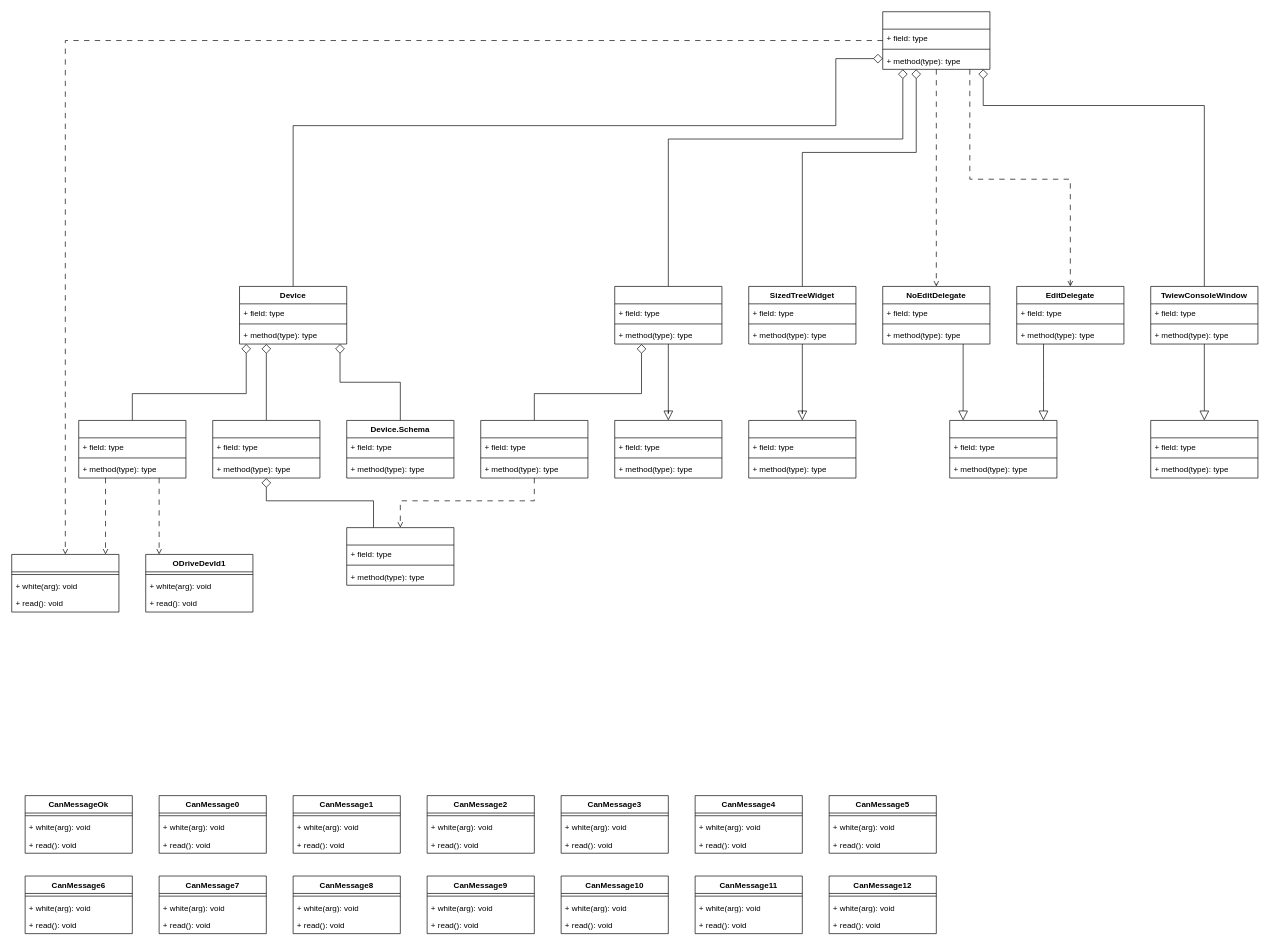
This 1270x947 diagram has some shape labels left out. Each missing label, with the box of its shape:
DeviceStream: (78, 420, 186, 478)
HistoryConsoleWidget: (1150, 420, 1258, 478)
ODriveDevId2: (11, 554, 119, 612)
PlotItem: (480, 420, 588, 478)
PlotWidget: (614, 286, 722, 344)
QStyledItemDelegate: (949, 420, 1057, 478)
QTreeWidget: (748, 420, 856, 478)
QWidget: (614, 420, 722, 478)
Record: (212, 420, 320, 478)
RecordSignal: (346, 527, 454, 585)
TwiewMainWindow: (882, 11, 990, 69)
